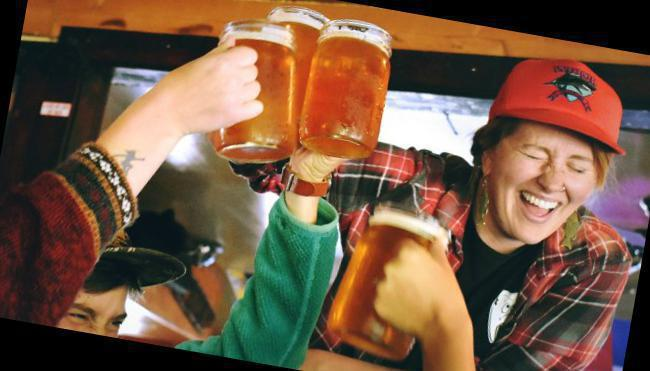Drunk: (502, 115, 596, 240)
